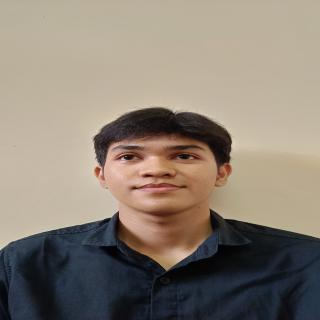Netral: (97, 126, 226, 222)
